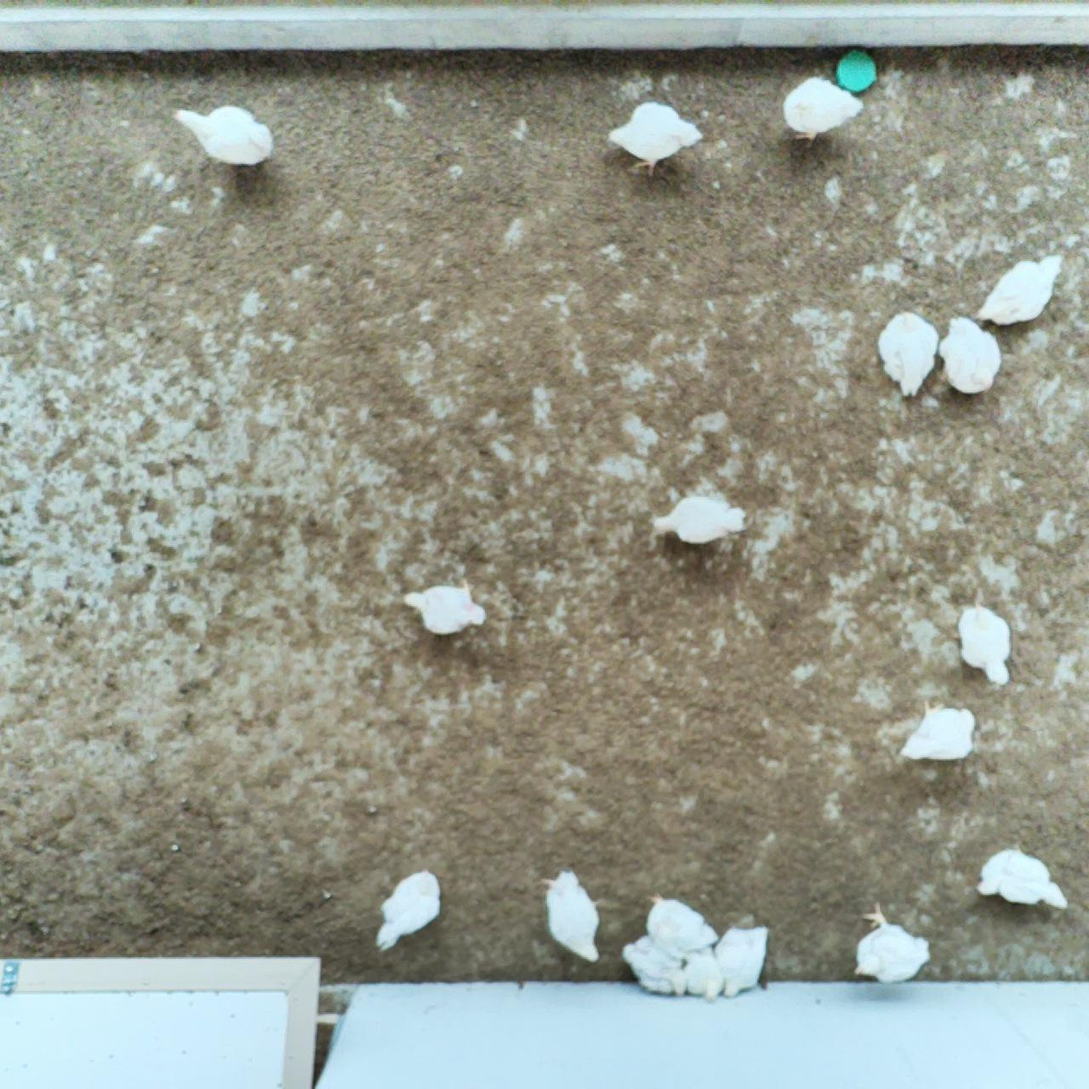chicken: (604, 100, 706, 176), (850, 898, 935, 989), (169, 100, 276, 168), (976, 253, 1066, 329), (978, 843, 1070, 913), (650, 491, 753, 553), (536, 867, 599, 967), (373, 867, 445, 954), (781, 76, 867, 147), (897, 695, 979, 765), (401, 574, 490, 638), (934, 315, 1004, 396), (641, 887, 720, 958), (878, 310, 942, 397), (715, 921, 778, 1003), (957, 599, 1013, 687), (621, 933, 688, 1001), (676, 937, 727, 1002)
